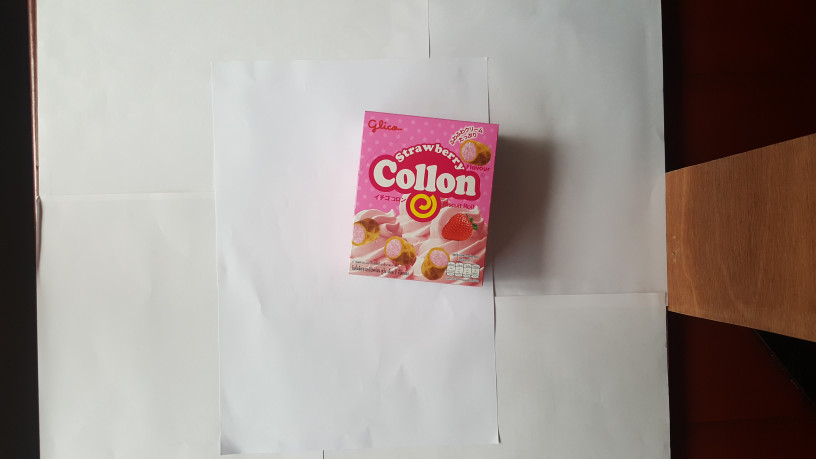collon-strawberry: (344, 110, 499, 287)
